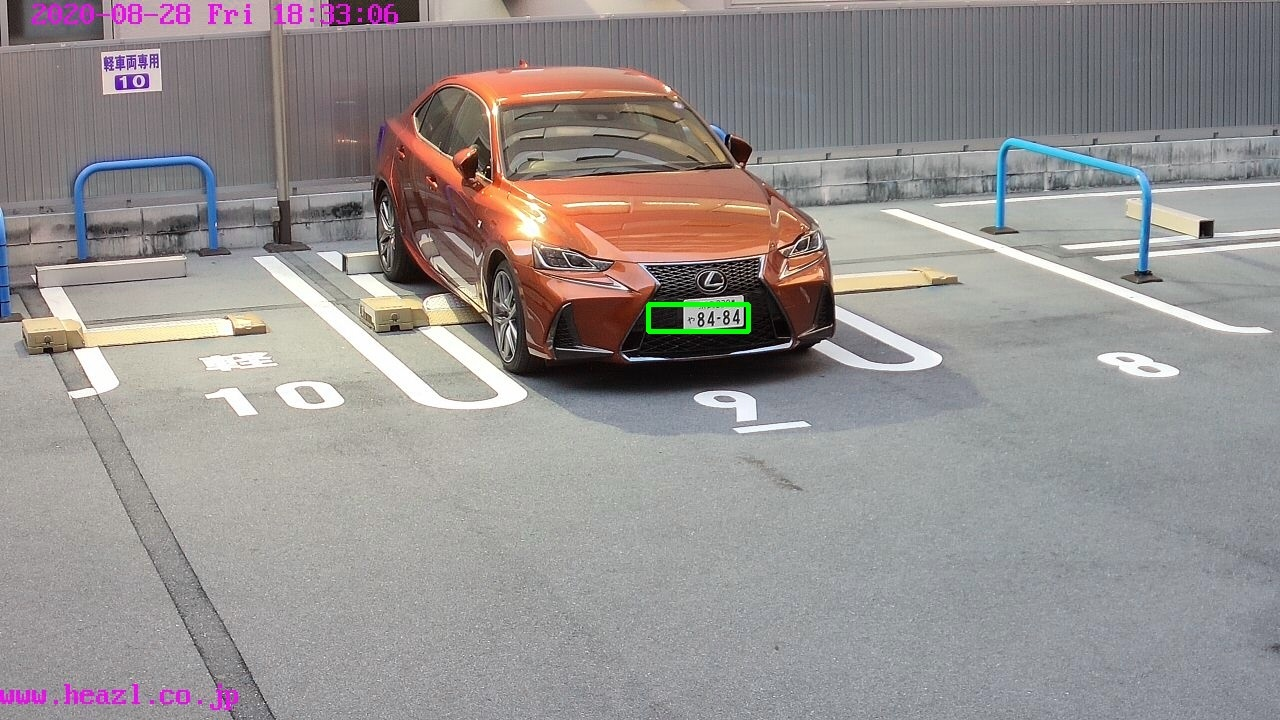number_plate: (684, 300, 746, 329)
